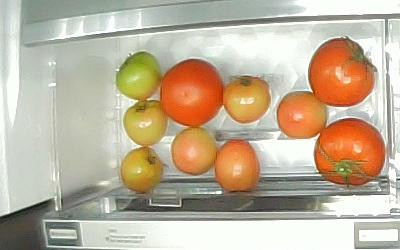tomato: (314, 118, 385, 189), (309, 34, 378, 106), (159, 58, 223, 127), (277, 92, 329, 140), (214, 139, 261, 191), (223, 75, 271, 125), (115, 51, 162, 100), (171, 127, 217, 176), (123, 99, 168, 146), (121, 146, 164, 193)
